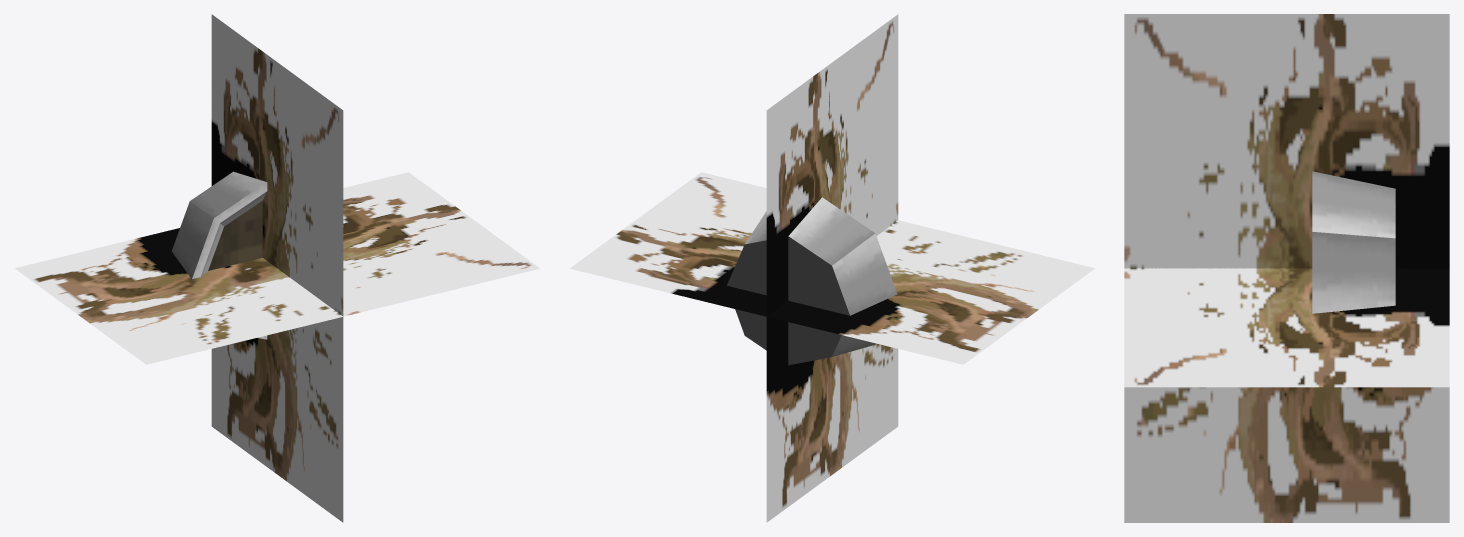
File: pz_plant_native_26.obj
The picture shows the model from 3 angles, left to right: view 1: azimuth 30°, elevation 25°; view 2: azimuth 150°, elevation 25°; view 3: azimuth 270°, elevation 25°; orthographic projection. The views are drawn at different scales.
Visible parts, largest first — view 1: foliage_PNG_crossed_cards, pot_soil_and_rim; view 2: foliage_PNG_crossed_cards, pot_soil_and_rim; view 3: foliage_PNG_crossed_cards, pot_soil_and_rim.
Boxes of the visible parts, x1,y1,x2,y2 form: foliage_PNG_crossed_cards: [15, 14, 539, 522]; pot_soil_and_rim: [171, 171, 267, 339]; foliage_PNG_crossed_cards: [570, 14, 1094, 522]; pot_soil_and_rim: [727, 197, 897, 365]; foliage_PNG_crossed_cards: [1124, 14, 1449, 522]; pot_soil_and_rim: [1312, 171, 1395, 313].
Size of the model in its own units: 1.41 by 1.41 by 0.8172.
1 material, 1 textured.
